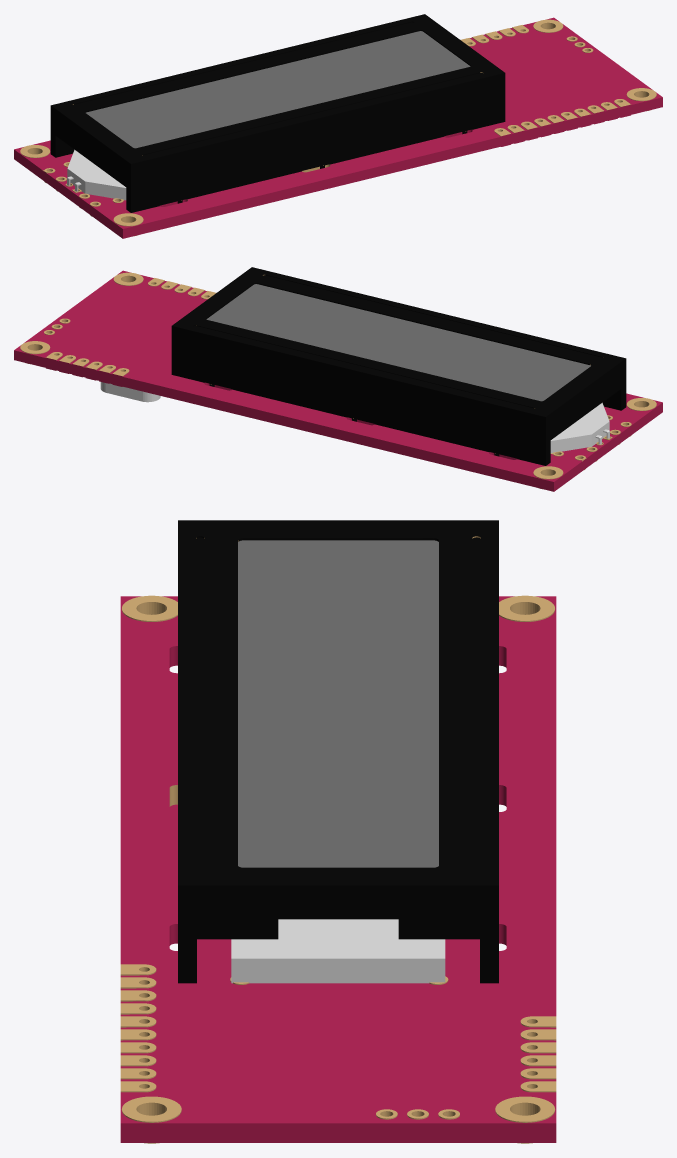
3 views of the same model, one above another, from view 1: azimuth 30°, elevation 25°; view 2: azimuth 150°, elevation 25°; view 3: azimuth 270°, elevation 25° (orthographic). The views are drawn at different scales.
Visible parts, largest first — view 1: _395; view 2: _395; view 3: _395.
Part boxes in pixels (x1,y1,x2,y2): _395: (14,14,662,238); _395: (14,267,662,491); _395: (120,520,556,1143).
Size of the model in its own units: 103 by 36 by 15.84.
